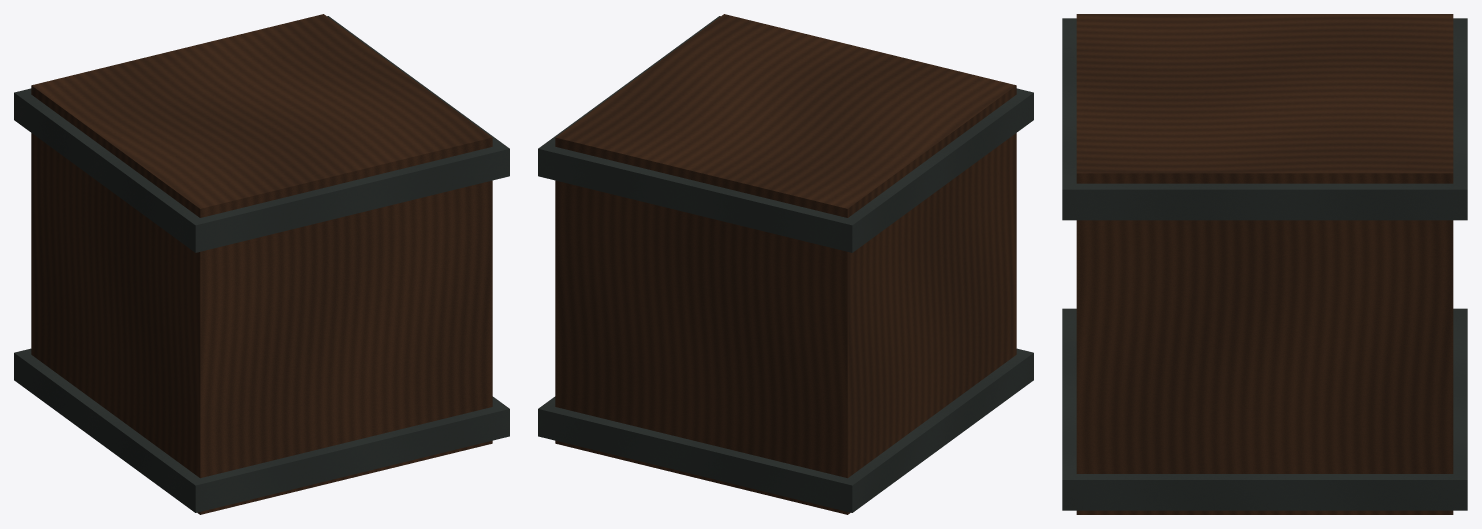
Rendered from SG_Crate_LOD2.fbx.
3 views of the same model, side by side, from view 1: azimuth 30°, elevation 25°; view 2: azimuth 150°, elevation 25°; view 3: azimuth 270°, elevation 25° (orthographic). The views are drawn at different scales.
Visible parts, largest first — view 1: SG_Crate_Detail2; view 2: SG_Crate_Detail2; view 3: SG_Crate_Detail2.
Part boxes in pixels (box(x1,y1,x2,y2)): SG_Crate_Detail2: box(14, 14, 509, 514); SG_Crate_Detail2: box(538, 14, 1033, 514); SG_Crate_Detail2: box(1062, 14, 1467, 514).
Bounding box in the file's own units: 2.15 × 2 × 2.15.
